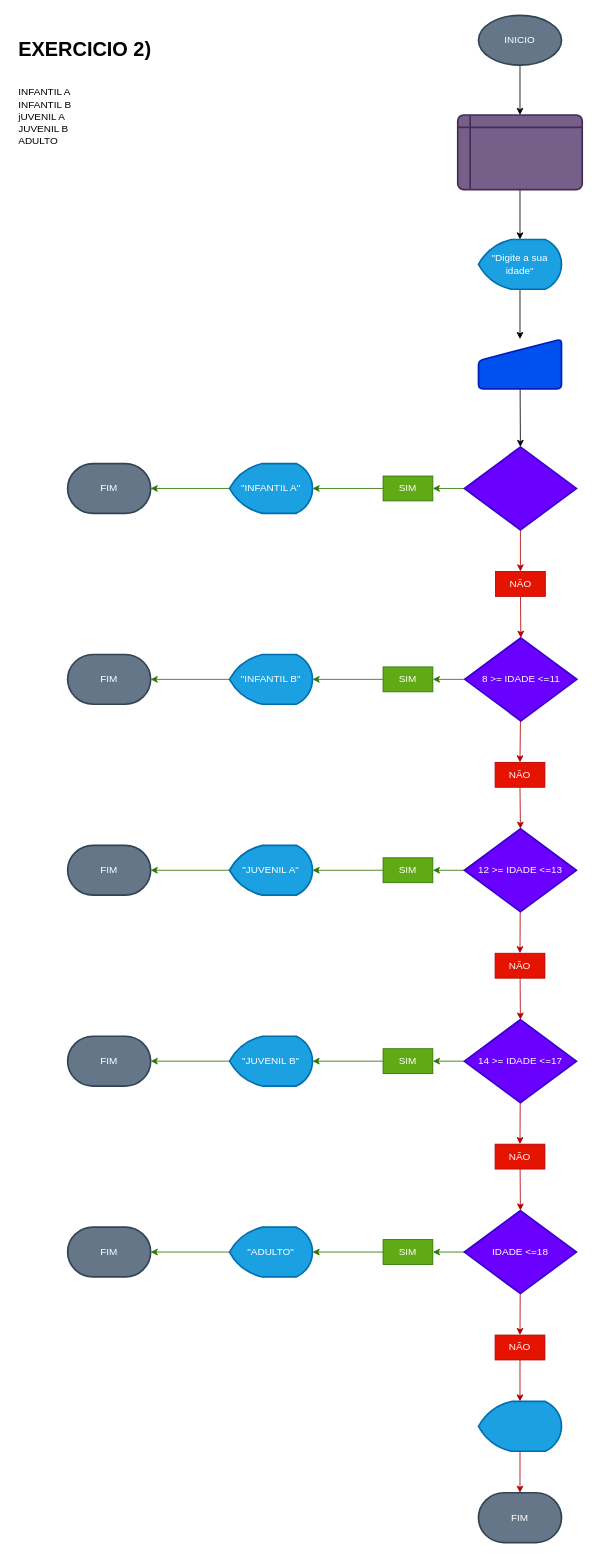
This 597x1557 diagram has some shape labels left out. Here are the shapes that lost their labels. From the top down, the box of each, then its label:
(456, 114, 583, 190): IDADE : inteiro
(477, 338, 562, 389): IDADE
(463, 446, 577, 530): 5 >= IDADE <=7
(477, 1400, 562, 1452): "IDADE inválida!"
